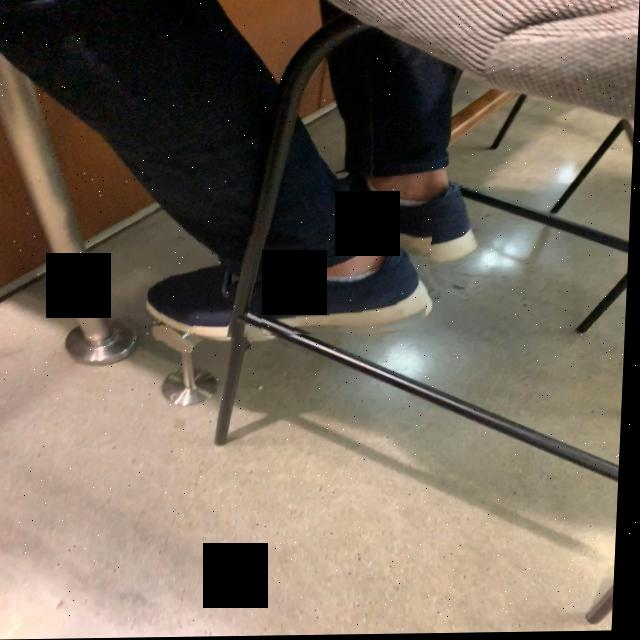shoe: (150, 235, 432, 339)
